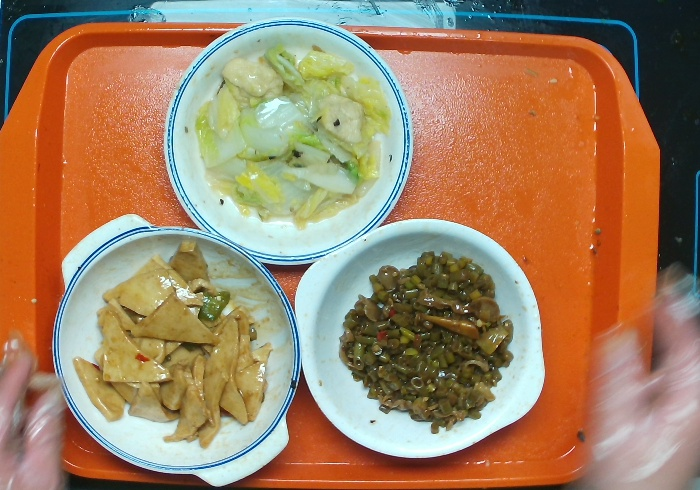HZYJPL-Dai_Er_Bai_Yuan_Wan: (290, 212, 550, 470)
HZYJPL-Lan_Bian_Dai_Er_Wan: (47, 209, 305, 488)
HZYJPL-Lan_Bian_Yuan_Die: (161, 12, 418, 281)
